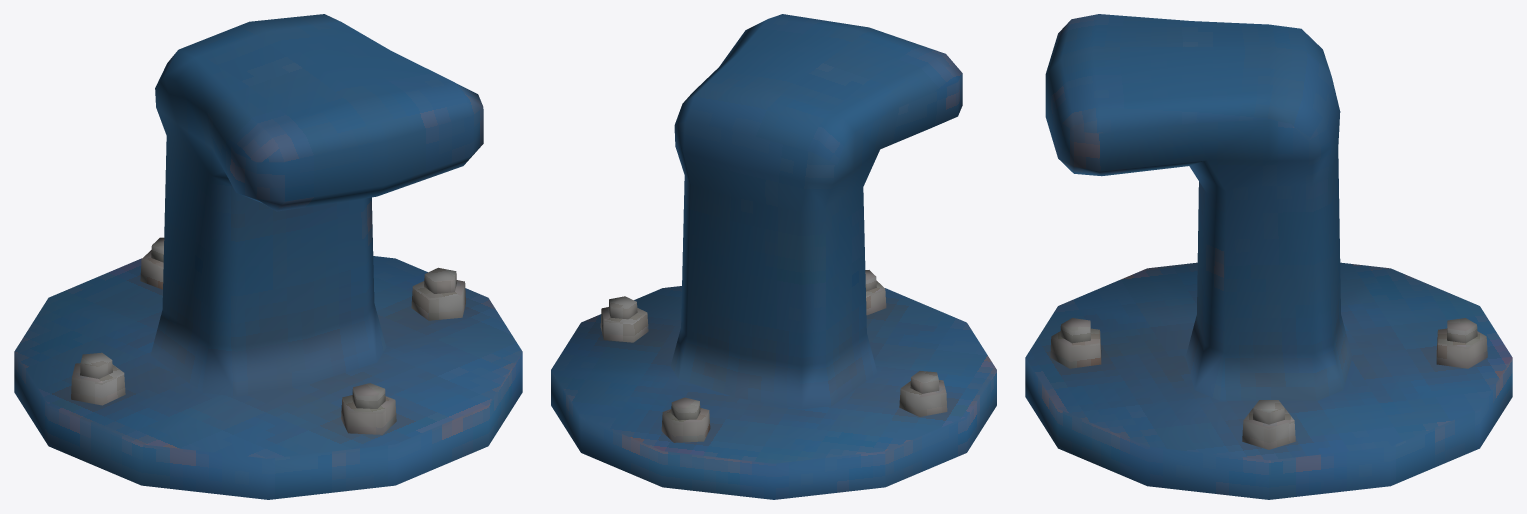
The model's file is objects_un_t05bollard01.gltf.
The picture shows the model from 3 angles, left to right: view 1: azimuth 30°, elevation 25°; view 2: azimuth 150°, elevation 25°; view 3: azimuth 270°, elevation 25°; orthographic projection. The views are drawn at different scales.
Visible parts, largest first — view 1: bollard01_shape:objects_un_t05bollard01_01; view 2: bollard01_shape:objects_un_t05bollard01_01; view 3: bollard01_shape:objects_un_t05bollard01_01.
Boxes of the visible parts, x1=… form: bollard01_shape:objects_un_t05bollard01_01: x1=14, y1=14, x2=522, y2=499; bollard01_shape:objects_un_t05bollard01_01: x1=551, y1=14, x2=996, y2=499; bollard01_shape:objects_un_t05bollard01_01: x1=1025, y1=14, x2=1512, y2=499.
Size of what is drawn, in the model's own units: 0.4763 by 0.3738 by 0.4763.
Materials: 1 (1 with a texture image).
